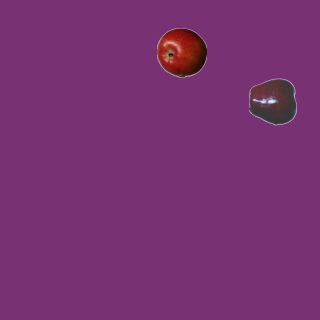Apple Braeburn: (156, 27, 206, 77)
Apple Red Delicious: (248, 76, 298, 126)
